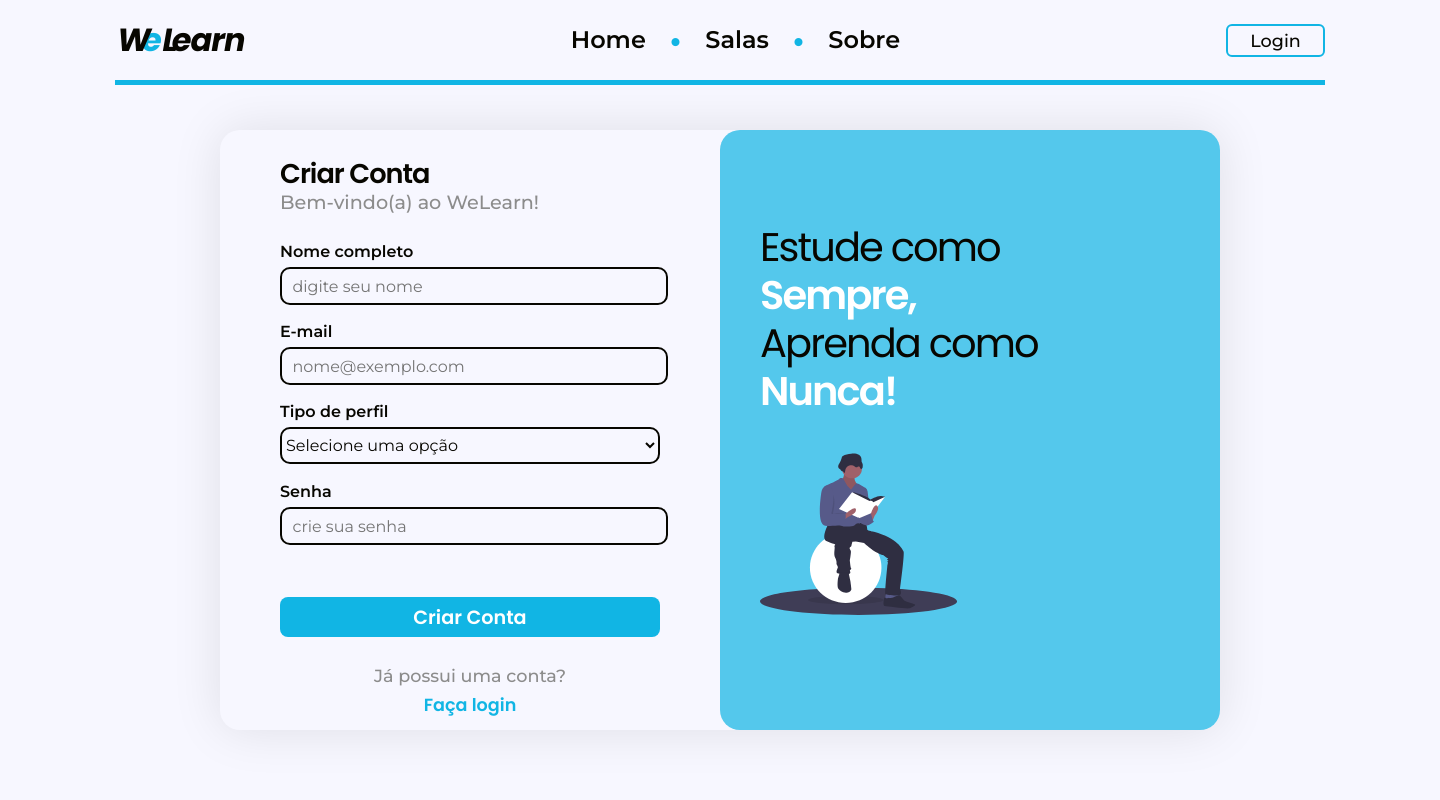
Test: Create Account Page › should show an error if the name is invalid
This screenshot has width=1440, height=800.
// Testa a criação de conta sem nome
In the field with placeholder " nome@exemplo.com": (474,366) [280,347,668,385], type "user@example.com"
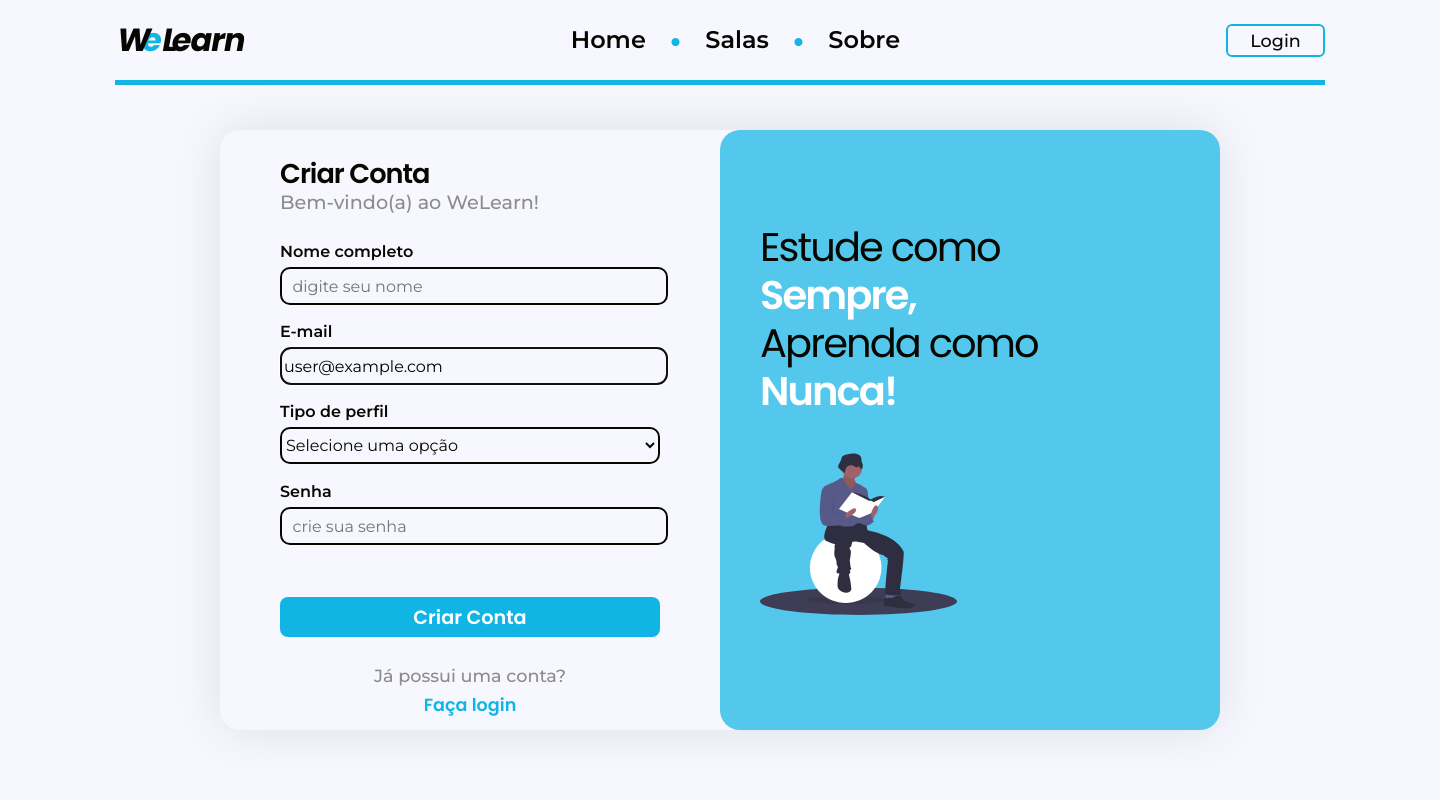
Select "Aluno" in the dropdown: (470,446) [280,427,660,464]
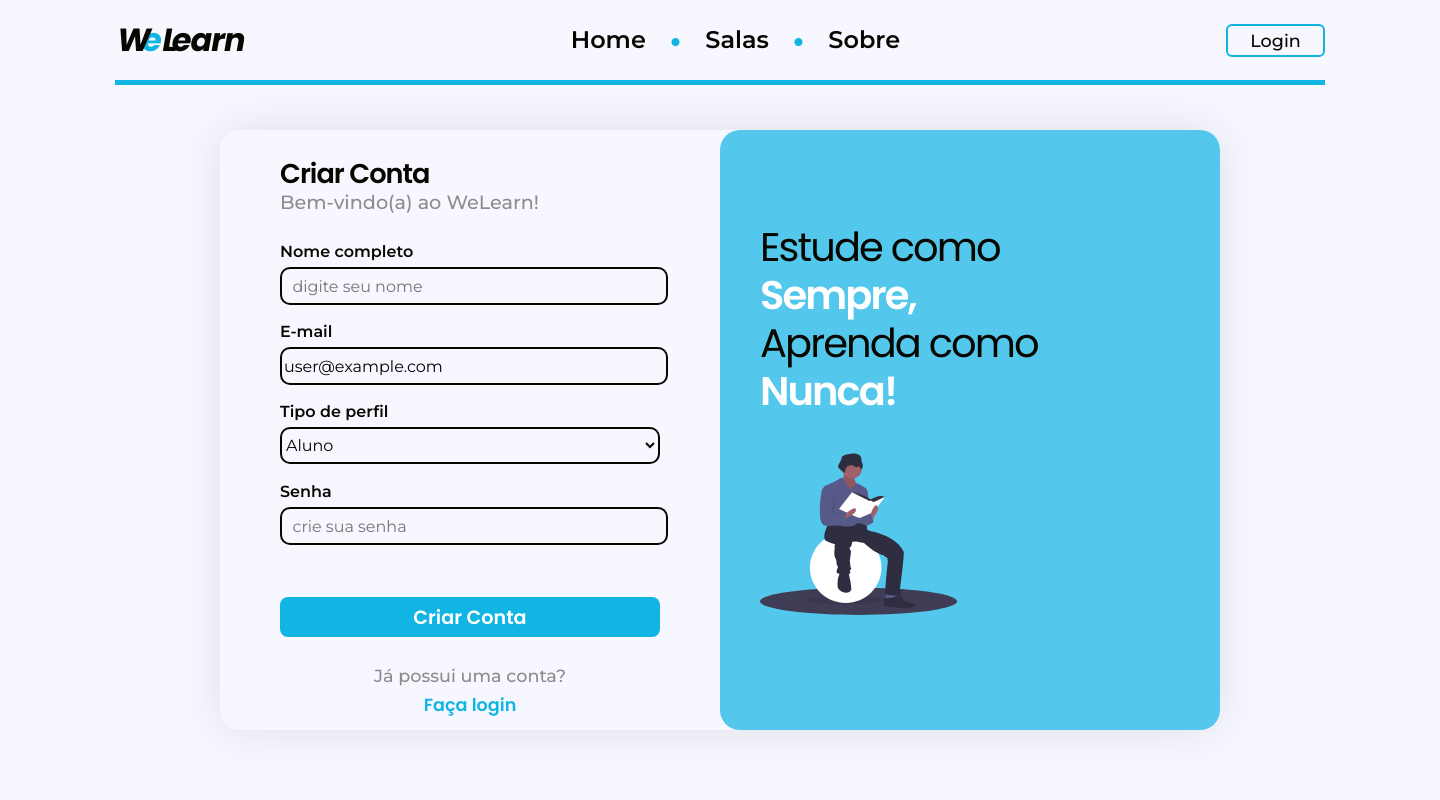
In the password field with placeholder " crie sua senha": (474,526) [280,507,668,545], type "password123"
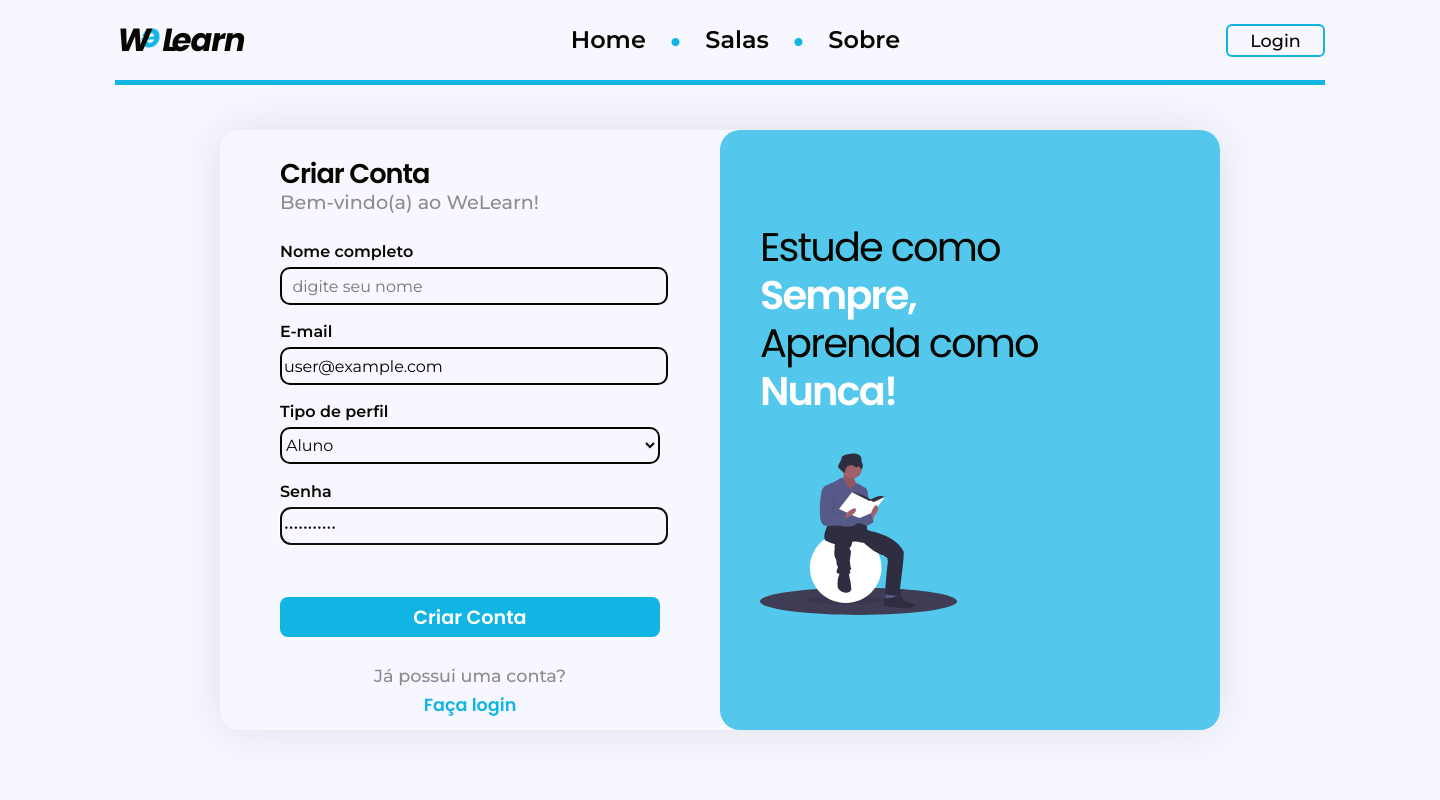
Click the button "Criar Conta": (470,617) [280,597,660,637]
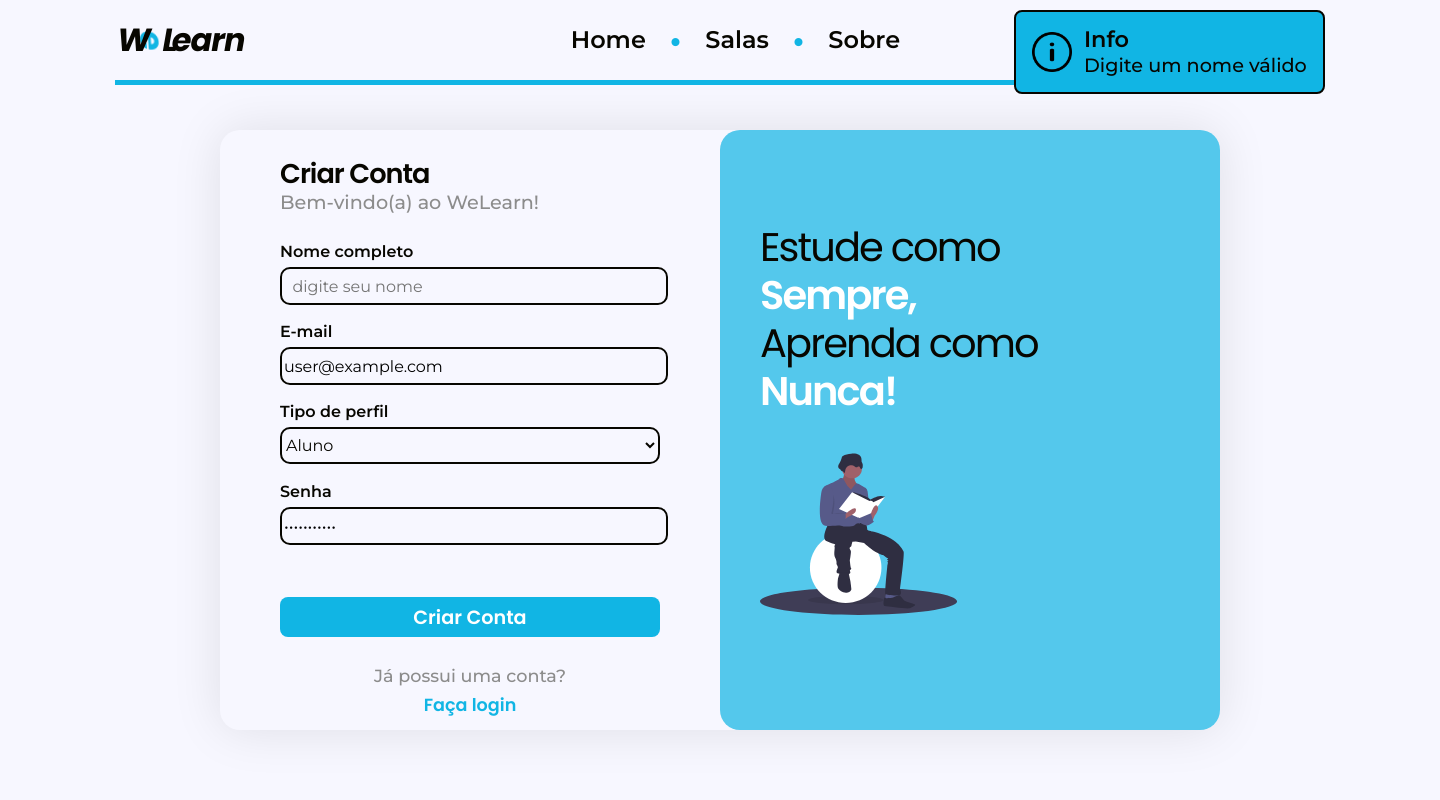
Check: the text "Digite um nome válido" is shown, box [1084,56,1307,76]
